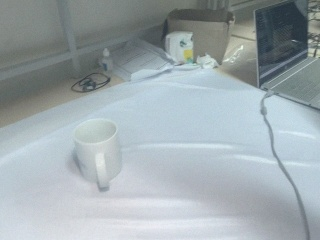box: (163, 8, 234, 67)
cup: (72, 118, 123, 191)
